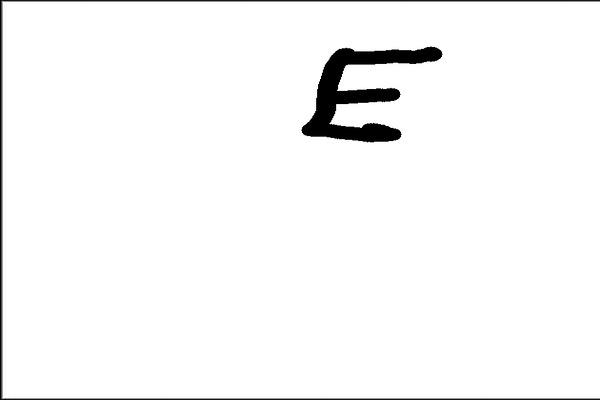E: (296, 38, 445, 148)
